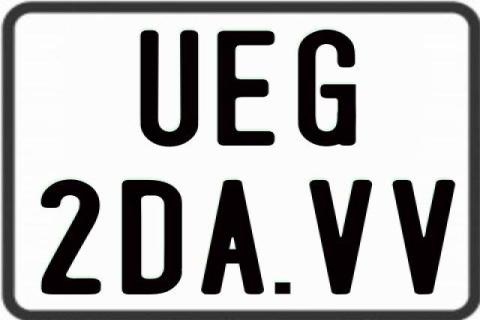0: (41, 178, 101, 296)
A: (198, 180, 265, 299)
D: (123, 177, 186, 297)
E: (214, 28, 278, 146)
G: (296, 29, 355, 149)
U: (138, 31, 196, 151)
V: (308, 180, 376, 297), (389, 180, 453, 299)
